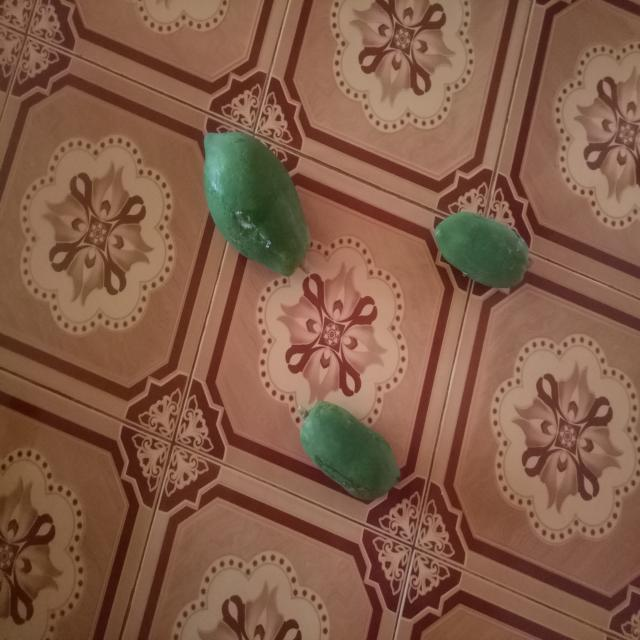Pepaya unrippen: (187, 128, 318, 292), (288, 398, 402, 512), (426, 204, 534, 302)
